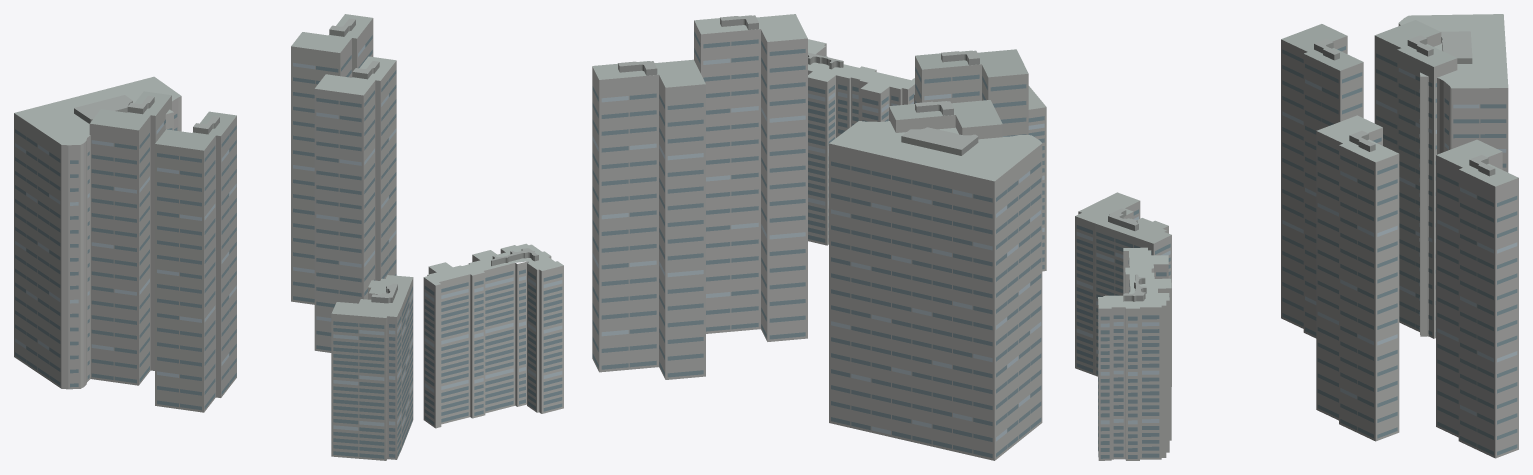
The model's file is apt-a10024562.glb.
3 renders of one model, left to right at view 1: azimuth 30°, elevation 25°; view 2: azimuth 150°, elevation 25°; view 3: azimuth 270°, elevation 25°, orthographic. The views are drawn at different scales.
Parts seen in each view (by area): view 1: apt-a10024562; view 2: apt-a10024562; view 3: apt-a10024562.
Part boxes in pixels (x1,y1,x2,y2): apt-a10024562: [14, 14, 563, 460]; apt-a10024562: [592, 14, 1046, 460]; apt-a10024562: [1075, 14, 1518, 460].
Bounding box in the file's own units: 168 × 119 × 168.
